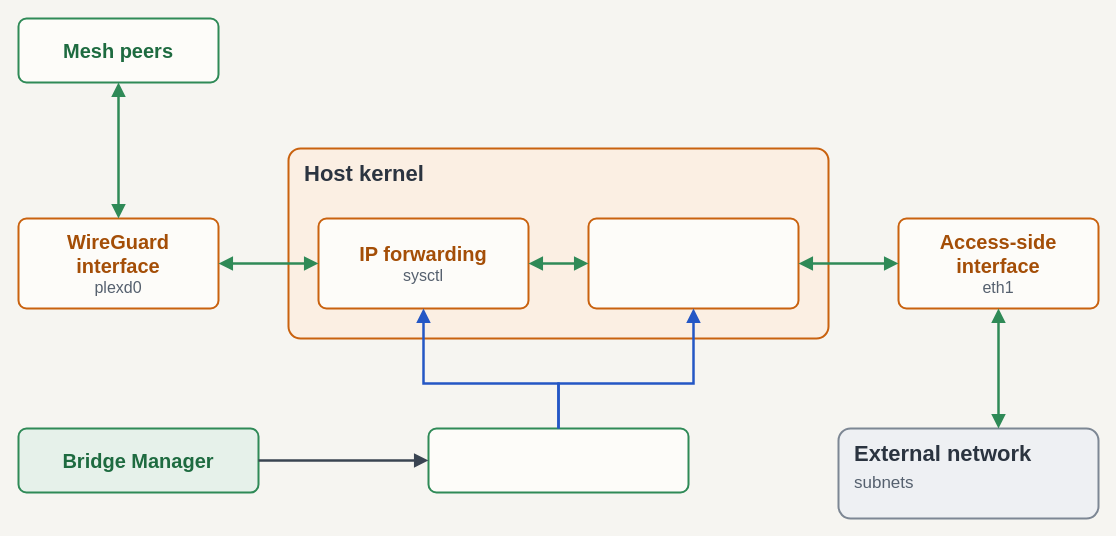
The diagram is 1116 pixels wide and 536 high, and some of its shapes have lost their labels. The centre of each missing label's shape, as x and y in pixels:
NAT nftables: point (693, 263)
RouteController: point (558, 460)
